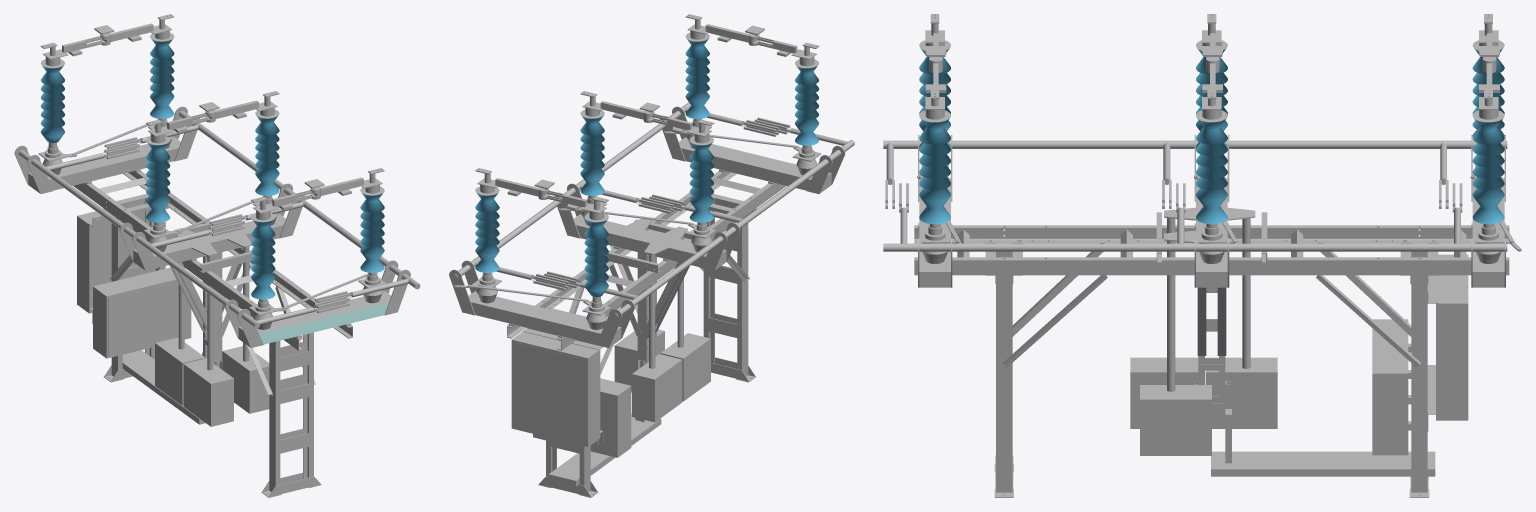
The model's file is Б110-18-2-1250 Б-УХЛ1 РН-СЭЩ Упрощенно.fbx.
The picture shows the model from 3 angles, left to right: view 1: azimuth 30°, elevation 25°; view 2: azimuth 150°, elevation 25°; view 3: azimuth 270°, elevation 25°; orthographic projection. The views are drawn at different scales.
Visible parts, largest first — view 1: Разьединитель РН-СЭЩ-110-1250; view 2: Разьединитель РН-СЭЩ-110-1250; view 3: Разьединитель РН-СЭЩ-110-1250.
Boxes of the visible parts, x1,y1,x2,y2 form: Разьединитель РН-СЭЩ-110-1250: [14, 14, 420, 497]; Разьединитель РН-СЭЩ-110-1250: [449, 14, 854, 497]; Разьединитель РН-СЭЩ-110-1250: [883, 14, 1521, 497].
Size of the model in its own units: 1900 by 3414 by 4614.
